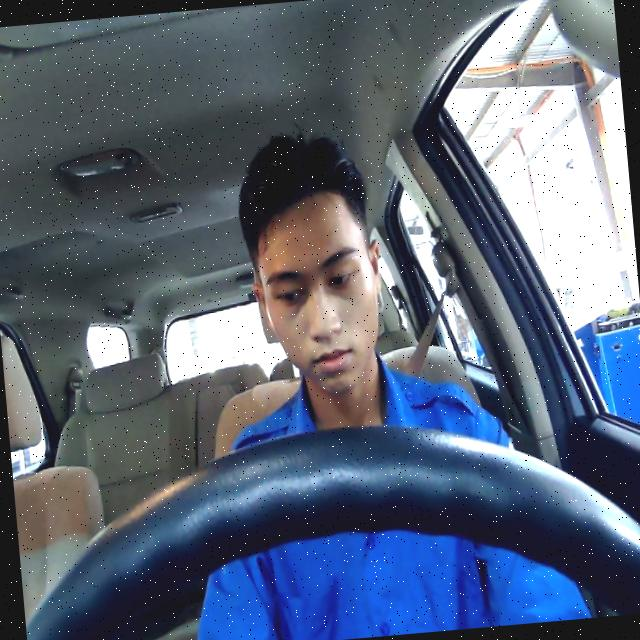focused: (243, 187, 389, 400)
